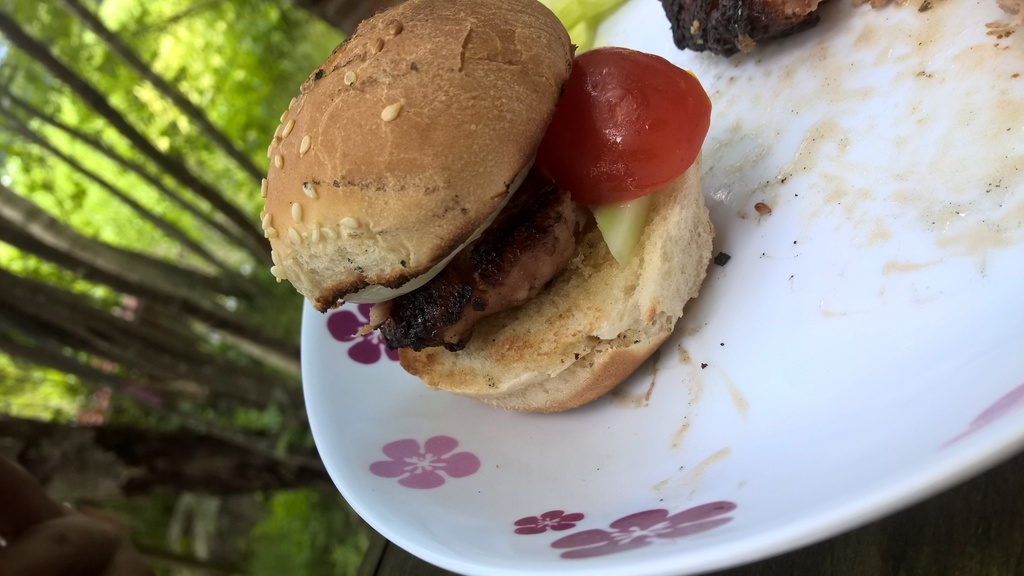Hamburger: (248, 0, 702, 415)
